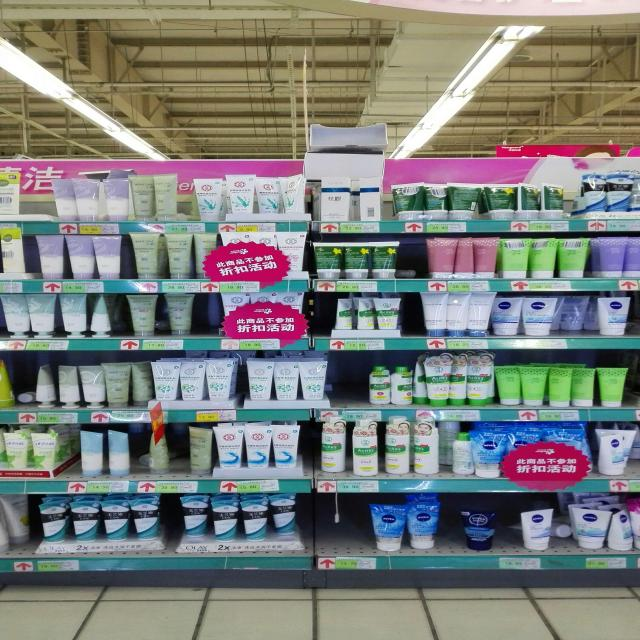empty: (302, 495, 370, 553), (334, 352, 367, 405), (168, 426, 190, 477), (498, 509, 522, 553), (130, 426, 148, 479), (441, 505, 460, 554), (402, 293, 420, 337), (402, 242, 424, 278), (112, 295, 127, 337)
